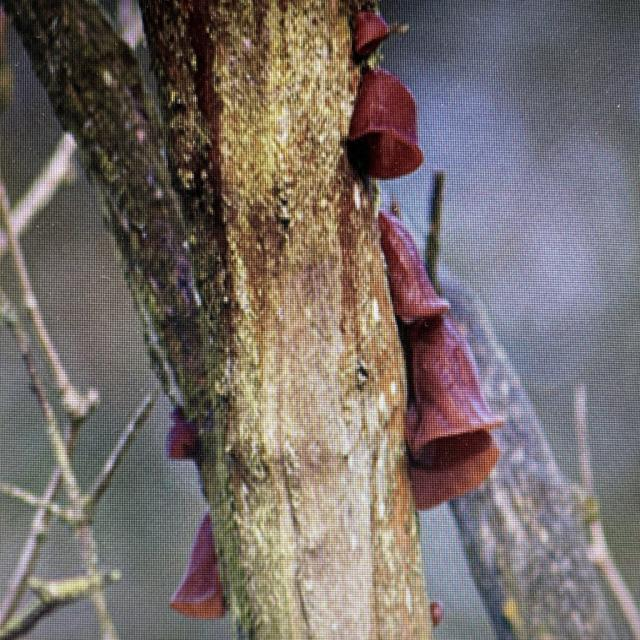Matang: (378, 204, 508, 514), (154, 395, 232, 627), (342, 10, 430, 183)
